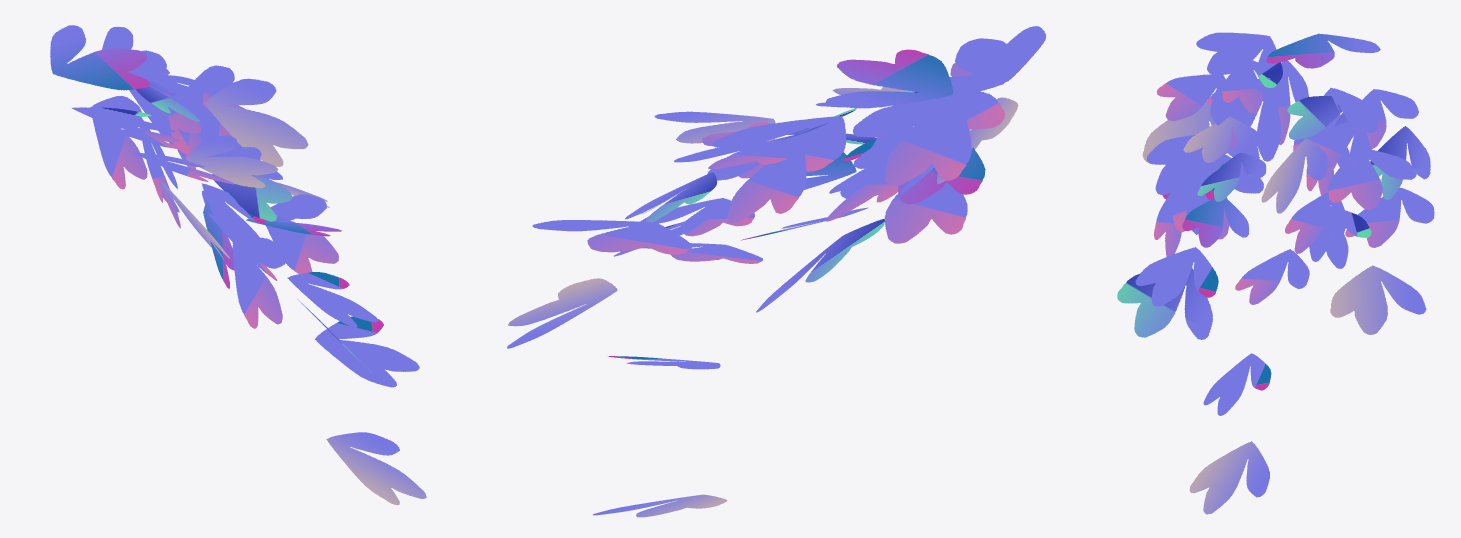
The model's file is SM_ivy_O_round_A_LOD1.fbx.
3 views of the same model, side by side, from view 1: azimuth 30°, elevation 25°; view 2: azimuth 150°, elevation 25°; view 3: azimuth 270°, elevation 25° (orthographic). The views are drawn at different scales.
Parts seen in each view (by area): view 1: SM_ivy_O_round_A_LOD1; view 2: SM_ivy_O_round_A_LOD1; view 3: SM_ivy_O_round_A_LOD1.
Part boxes in pixels (<box>): SM_ivy_O_round_A_LOD1: <box>50,25,426,505</box>; SM_ivy_O_round_A_LOD1: <box>507,26,1045,517</box>; SM_ivy_O_round_A_LOD1: <box>1117,32,1434,514</box>.
Size of the model in its own units: 148 by 172 by 145.
